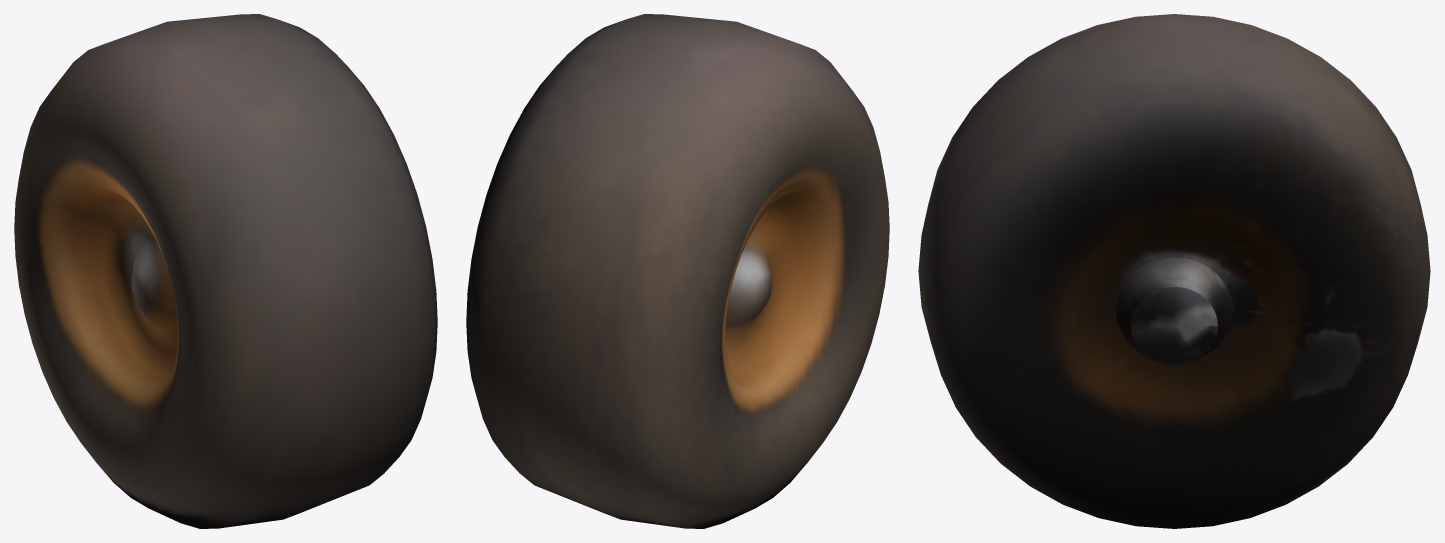
3 views of the same model, side by side, from view 1: azimuth 30°, elevation 25°; view 2: azimuth 150°, elevation 25°; view 3: azimuth 270°, elevation 25° (orthographic).
Parts seen in each view (by area): view 1: wheel_FR; view 2: wheel_FR; view 3: wheel_FR.
Part boxes in pixels (bbox=[...]): wheel_FR: bbox=[14, 14, 437, 528]; wheel_FR: bbox=[466, 14, 889, 528]; wheel_FR: bbox=[918, 14, 1430, 528].
Size of the model in its own units: 0.161 by 0.306 by 0.306.
1 material, 1 textured.
